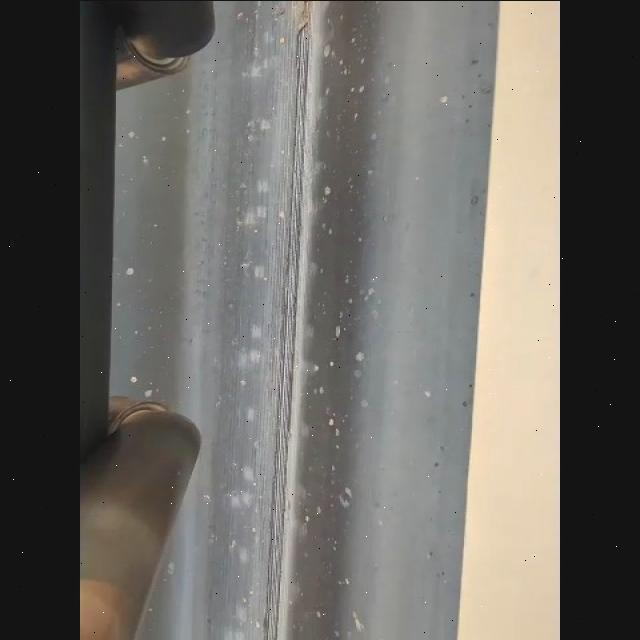Wear: (256, 0, 318, 640)
